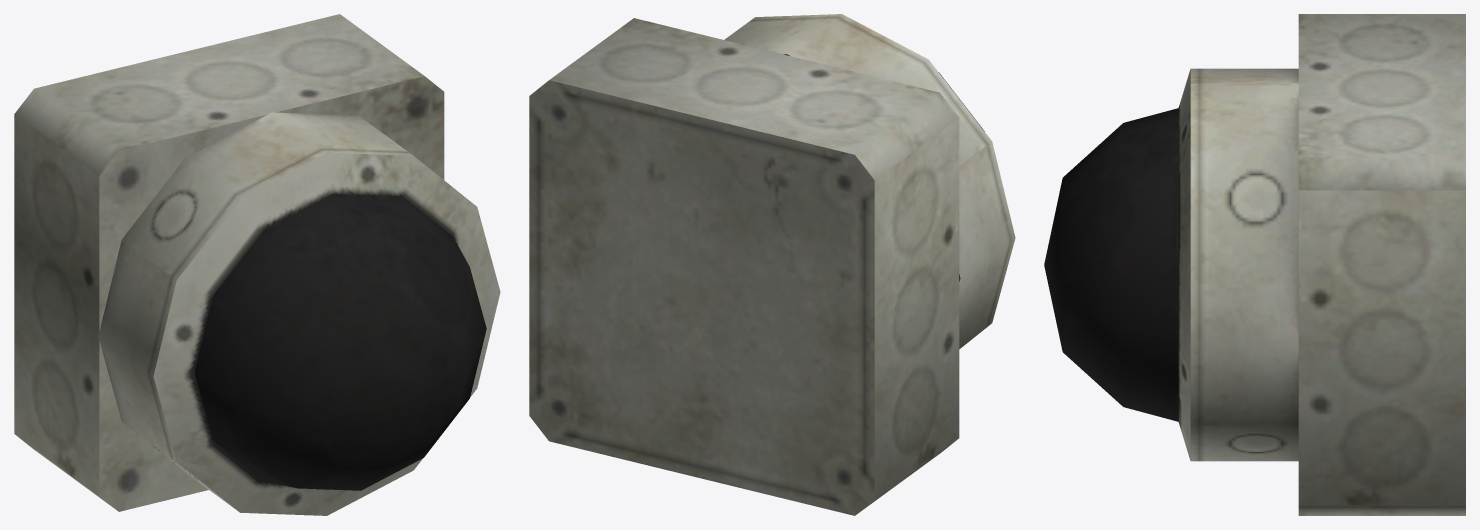
The model's file is p6_garage_pipes_camera_LOD0.obj.
3 renders of one model, left to right at view 1: azimuth 30°, elevation 25°; view 2: azimuth 150°, elevation 25°; view 3: azimuth 270°, elevation 25°, orthographic.
Parts seen in each view (by area): view 1: mtl_p6_pipes_garage_details; view 2: mtl_p6_pipes_garage_details; view 3: mtl_p6_pipes_garage_details.
Part boxes in pixels (left/top/right/bottom): mtl_p6_pipes_garage_details: left=14, top=14, right=500, bottom=515; mtl_p6_pipes_garage_details: left=529, top=14, right=1015, bottom=515; mtl_p6_pipes_garage_details: left=1044, top=14, right=1465, bottom=515.
Bounding box in the file's own units: 16.96 × 16.96 × 18.15.
